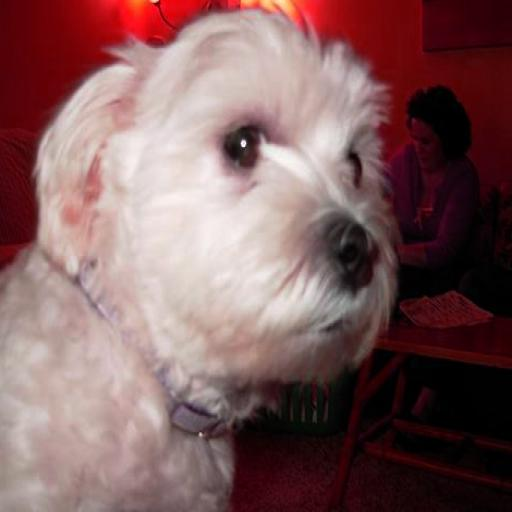dog_face: (54, 23, 388, 370)
